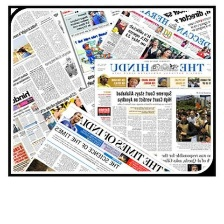news_paper: (95, 58, 214, 179), (21, 102, 184, 173), (0, 8, 86, 120), (11, 78, 103, 172), (101, 6, 213, 60), (57, 7, 119, 92)
